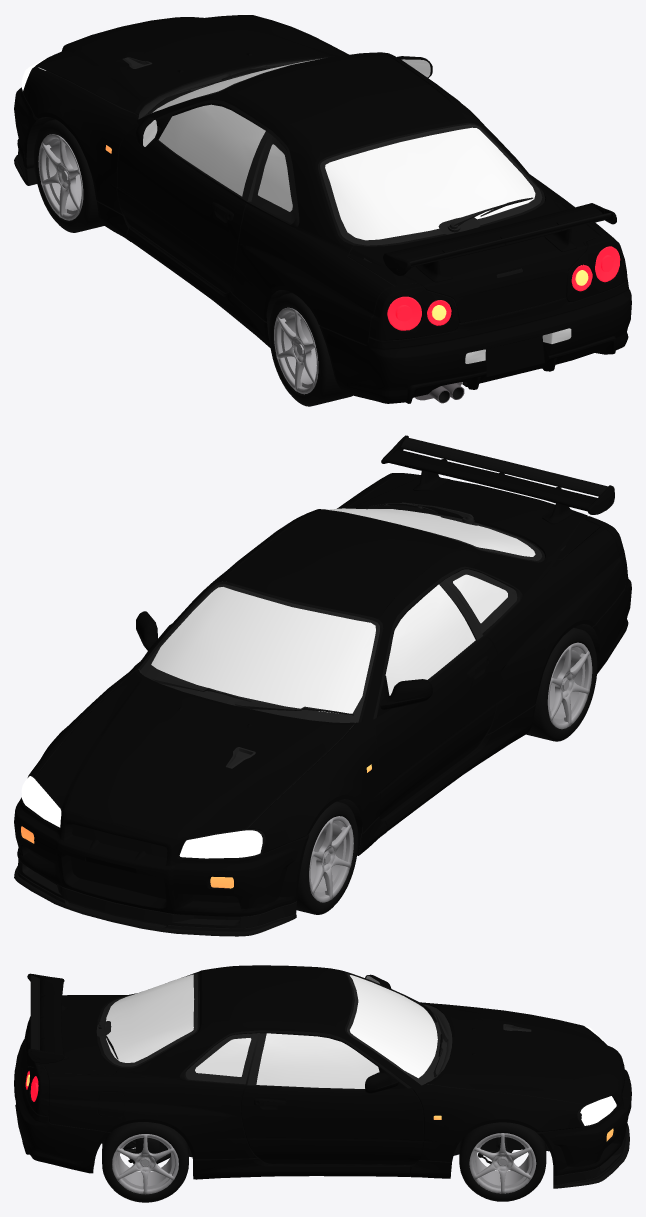
The model's file is nissanr34.gltf.
The picture shows the model from 3 angles, top to bottom: view 1: azimuth 30°, elevation 25°; view 2: azimuth 150°, elevation 25°; view 3: azimuth 270°, elevation 25°; orthographic projection. The views are drawn at different scales.
Parts seen in each view (by area): view 1: Nissan Skyline GT-R R34, Rear Wheels, F L Wheel; view 2: Nissan Skyline GT-R R34, Rear Wheels, F L Wheel; view 3: Nissan Skyline GT-R R34, Rear Wheels, F R Wheel.
Part boxes in pixels (x1,y1,x2,y2): Nissan Skyline GT-R R34: (14, 14, 631, 403); Rear Wheels: (269, 292, 352, 406); F L Wheel: (34, 119, 104, 232); Nissan Skyline GT-R R34: (14, 435, 631, 936); Rear Wheels: (526, 627, 597, 741); F L Wheel: (296, 801, 358, 914); Nissan Skyline GT-R R34: (14, 965, 631, 1188); Rear Wheels: (102, 1122, 188, 1202); F R Wheel: (459, 1122, 546, 1201).
Bounding box in the file's own units: 7.88 × 5.52 × 19.07.
